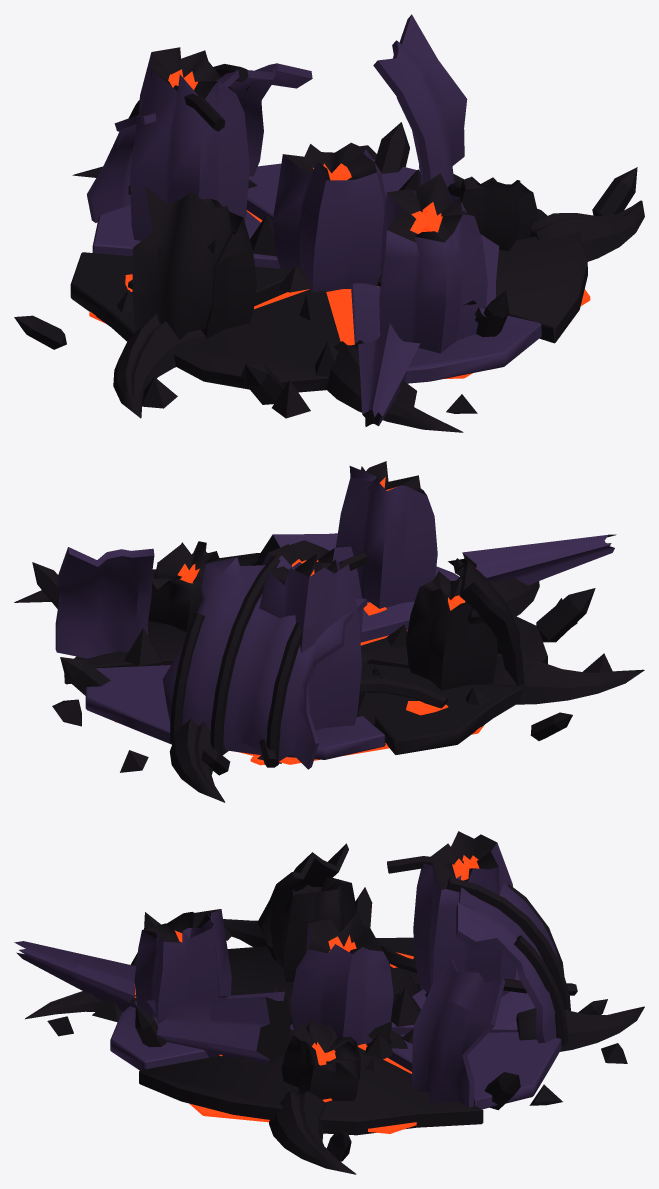
Rendered from alien_city_ruins.glb.
The picture shows the model from 3 angles, top to bottom: view 1: azimuth 30°, elevation 25°; view 2: azimuth 150°, elevation 25°; view 3: azimuth 270°, elevation 25°; orthographic projection. The views are drawn at different scales.
Parts seen in each view (by area): view 1: AlienCityRuins; view 2: AlienCityRuins; view 3: AlienCityRuins.
Boxes of the visible parts, x1,y1,x2,y2 form: AlienCityRuins: (14, 14, 644, 432); AlienCityRuins: (14, 461, 644, 802); AlienCityRuins: (14, 831, 644, 1174).
Bounding box in the file's own units: 36.28 × 11.34 × 37.1.
